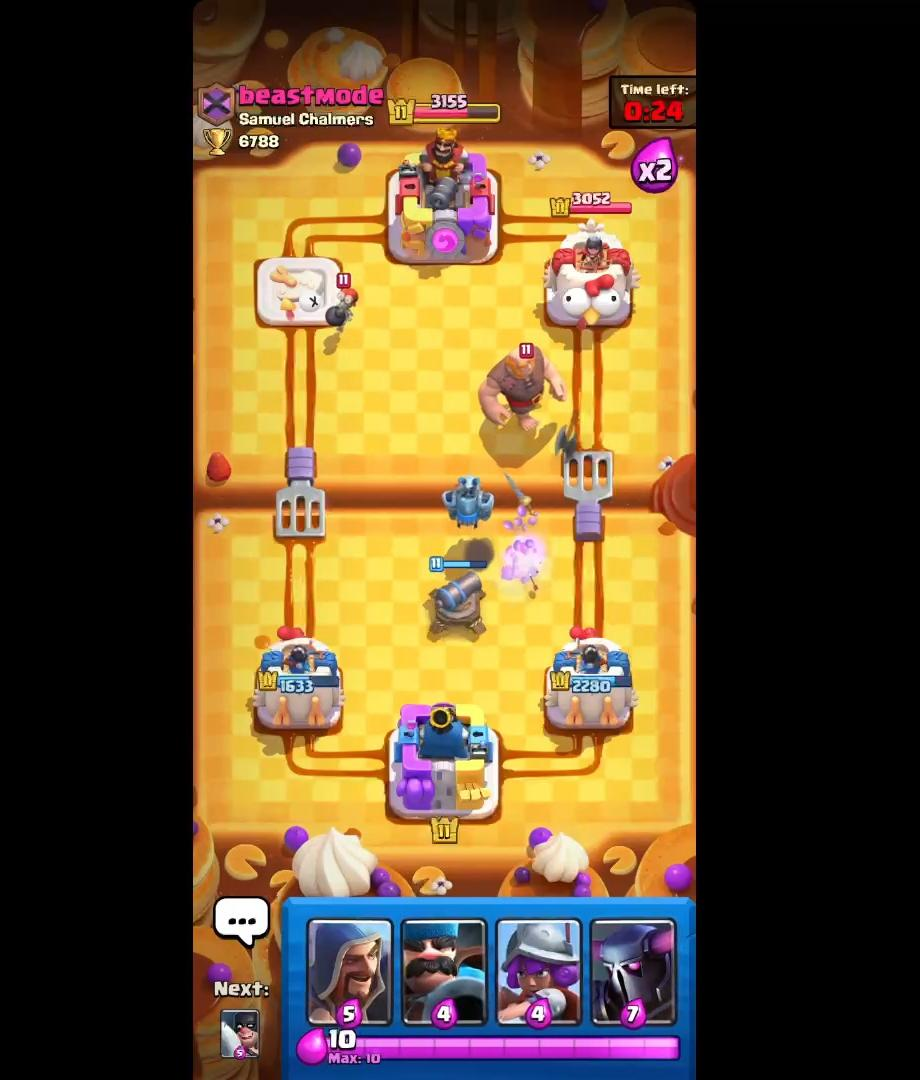Bomber: (326, 265, 359, 333)
Giant: (477, 340, 570, 445)
